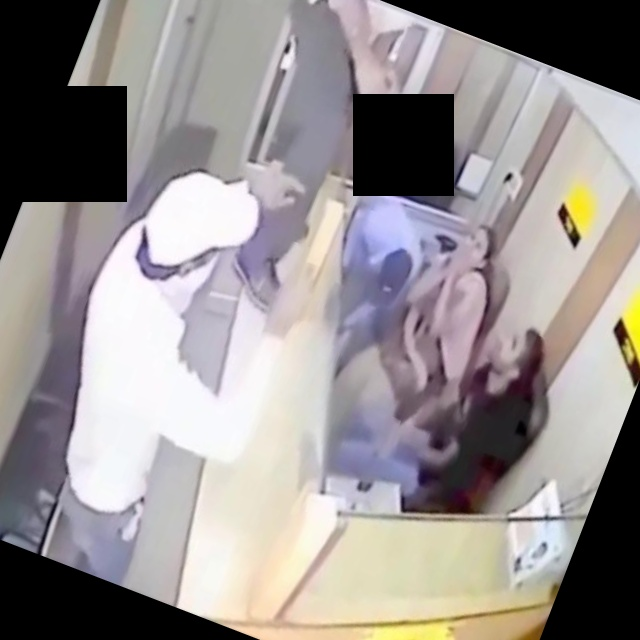gun: (351, 56, 418, 128)
